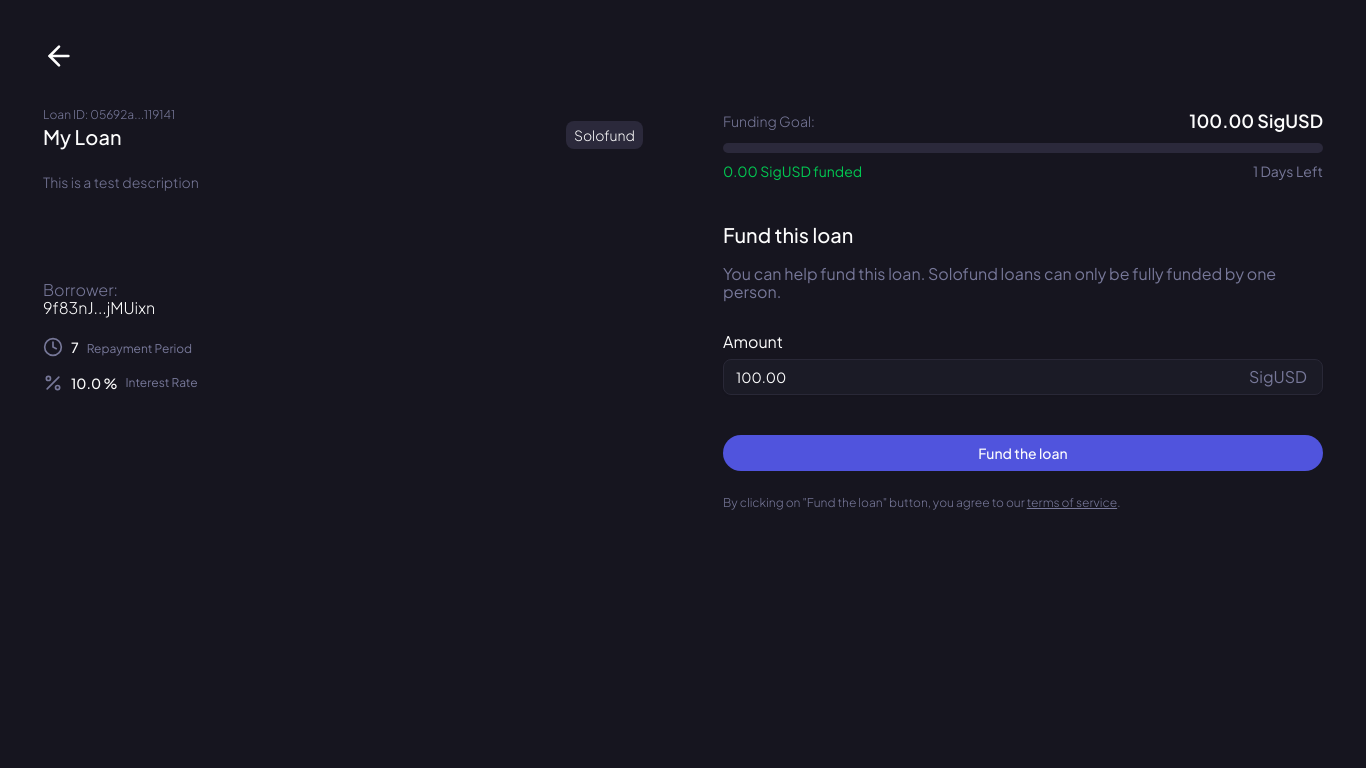
Scenario: LoanDetails › Error Handling › should show specific error message from exception
The image size is (1366, 768).
Click the button "Fund the loan".
click(1023, 453)  # box [723,435,1323,471]
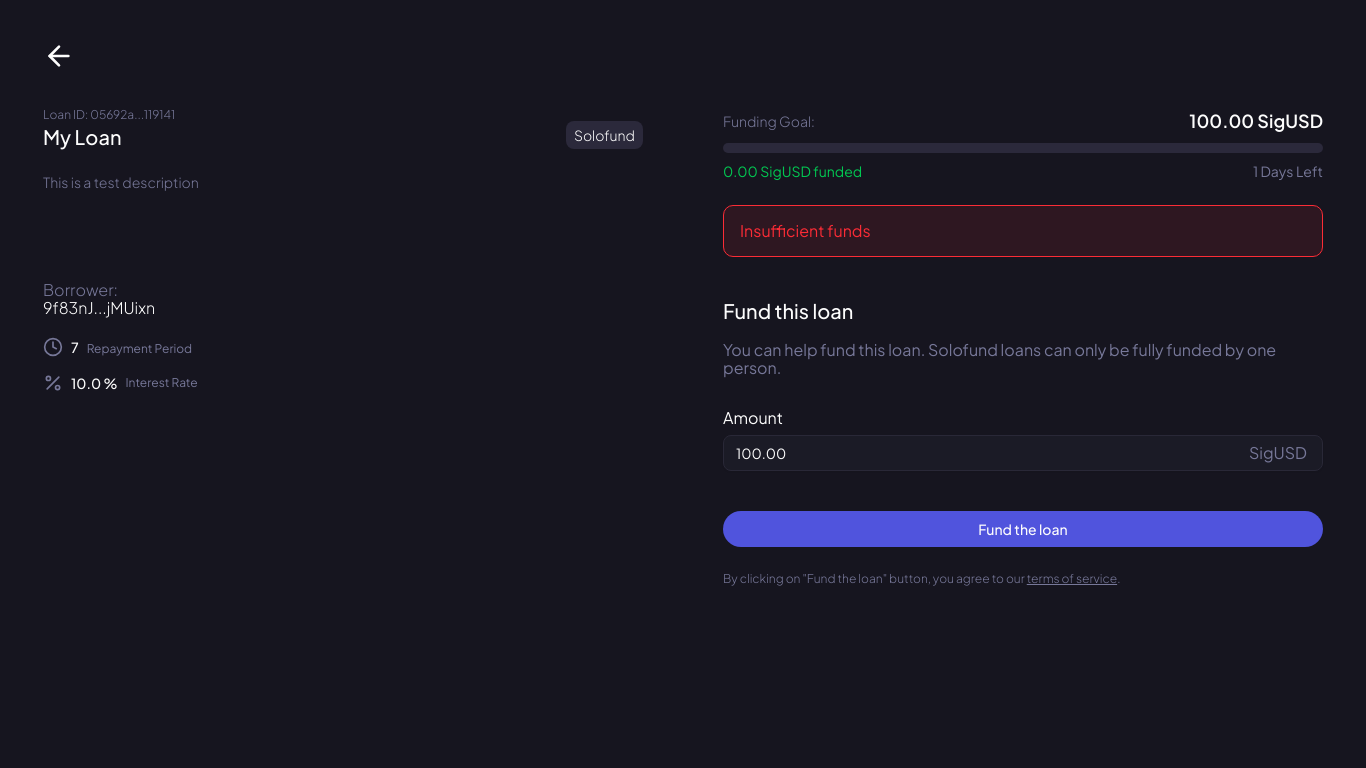
Result: the text "Insufficient funds" is shown at [723,205,1323,257]
